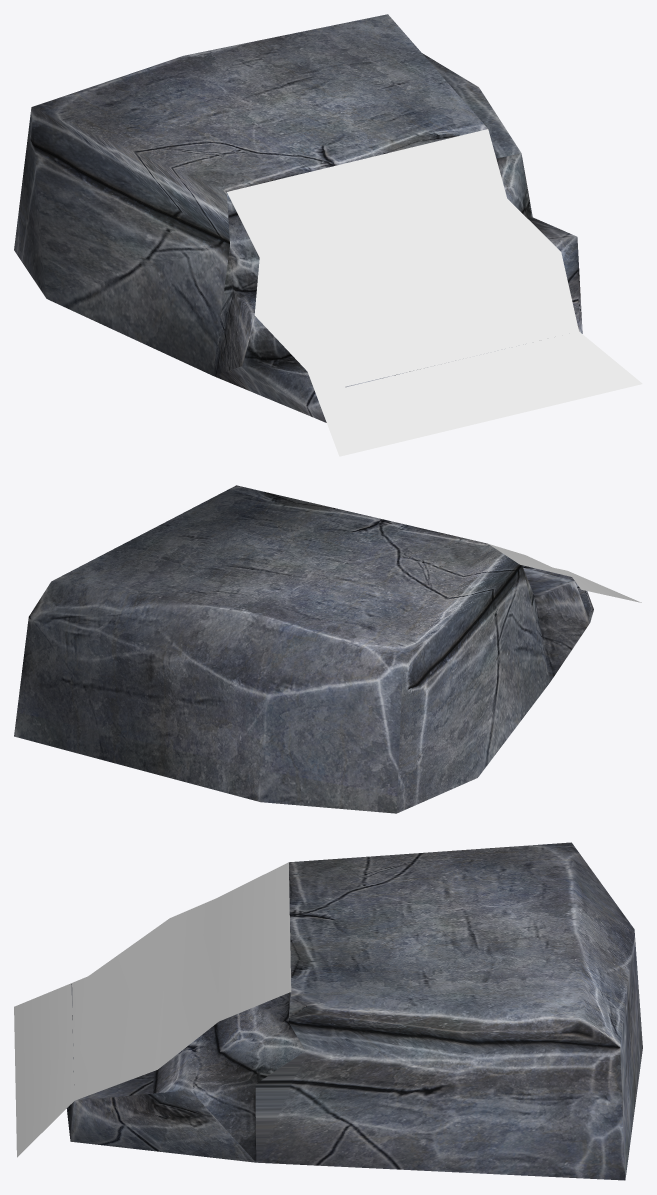
The model's file is R_StairsLOD1.FBX.
3 views of the same model, one above another, from view 1: azimuth 30°, elevation 25°; view 2: azimuth 150°, elevation 25°; view 3: azimuth 270°, elevation 25° (orthographic). The views are drawn at different scales.
Visible parts, largest first — view 1: default, Plane01; view 2: default, Plane01; view 3: default, Plane01.
Part boxes in pixels (x1=…): default: x1=14, y1=14, x2=582, y2=422; Plane01: x1=227, y1=129, x2=642, y2=456; default: x1=14, y1=485, x2=593, y2=813; Plane01: x1=488, y1=543, x2=641, y2=602; default: x1=66, y1=842, x2=642, y2=1180; Plane01: x1=14, y1=862, x2=291, y2=1157.
Size of the model in its own units: 1.66 by 0.6197 by 2.14.
